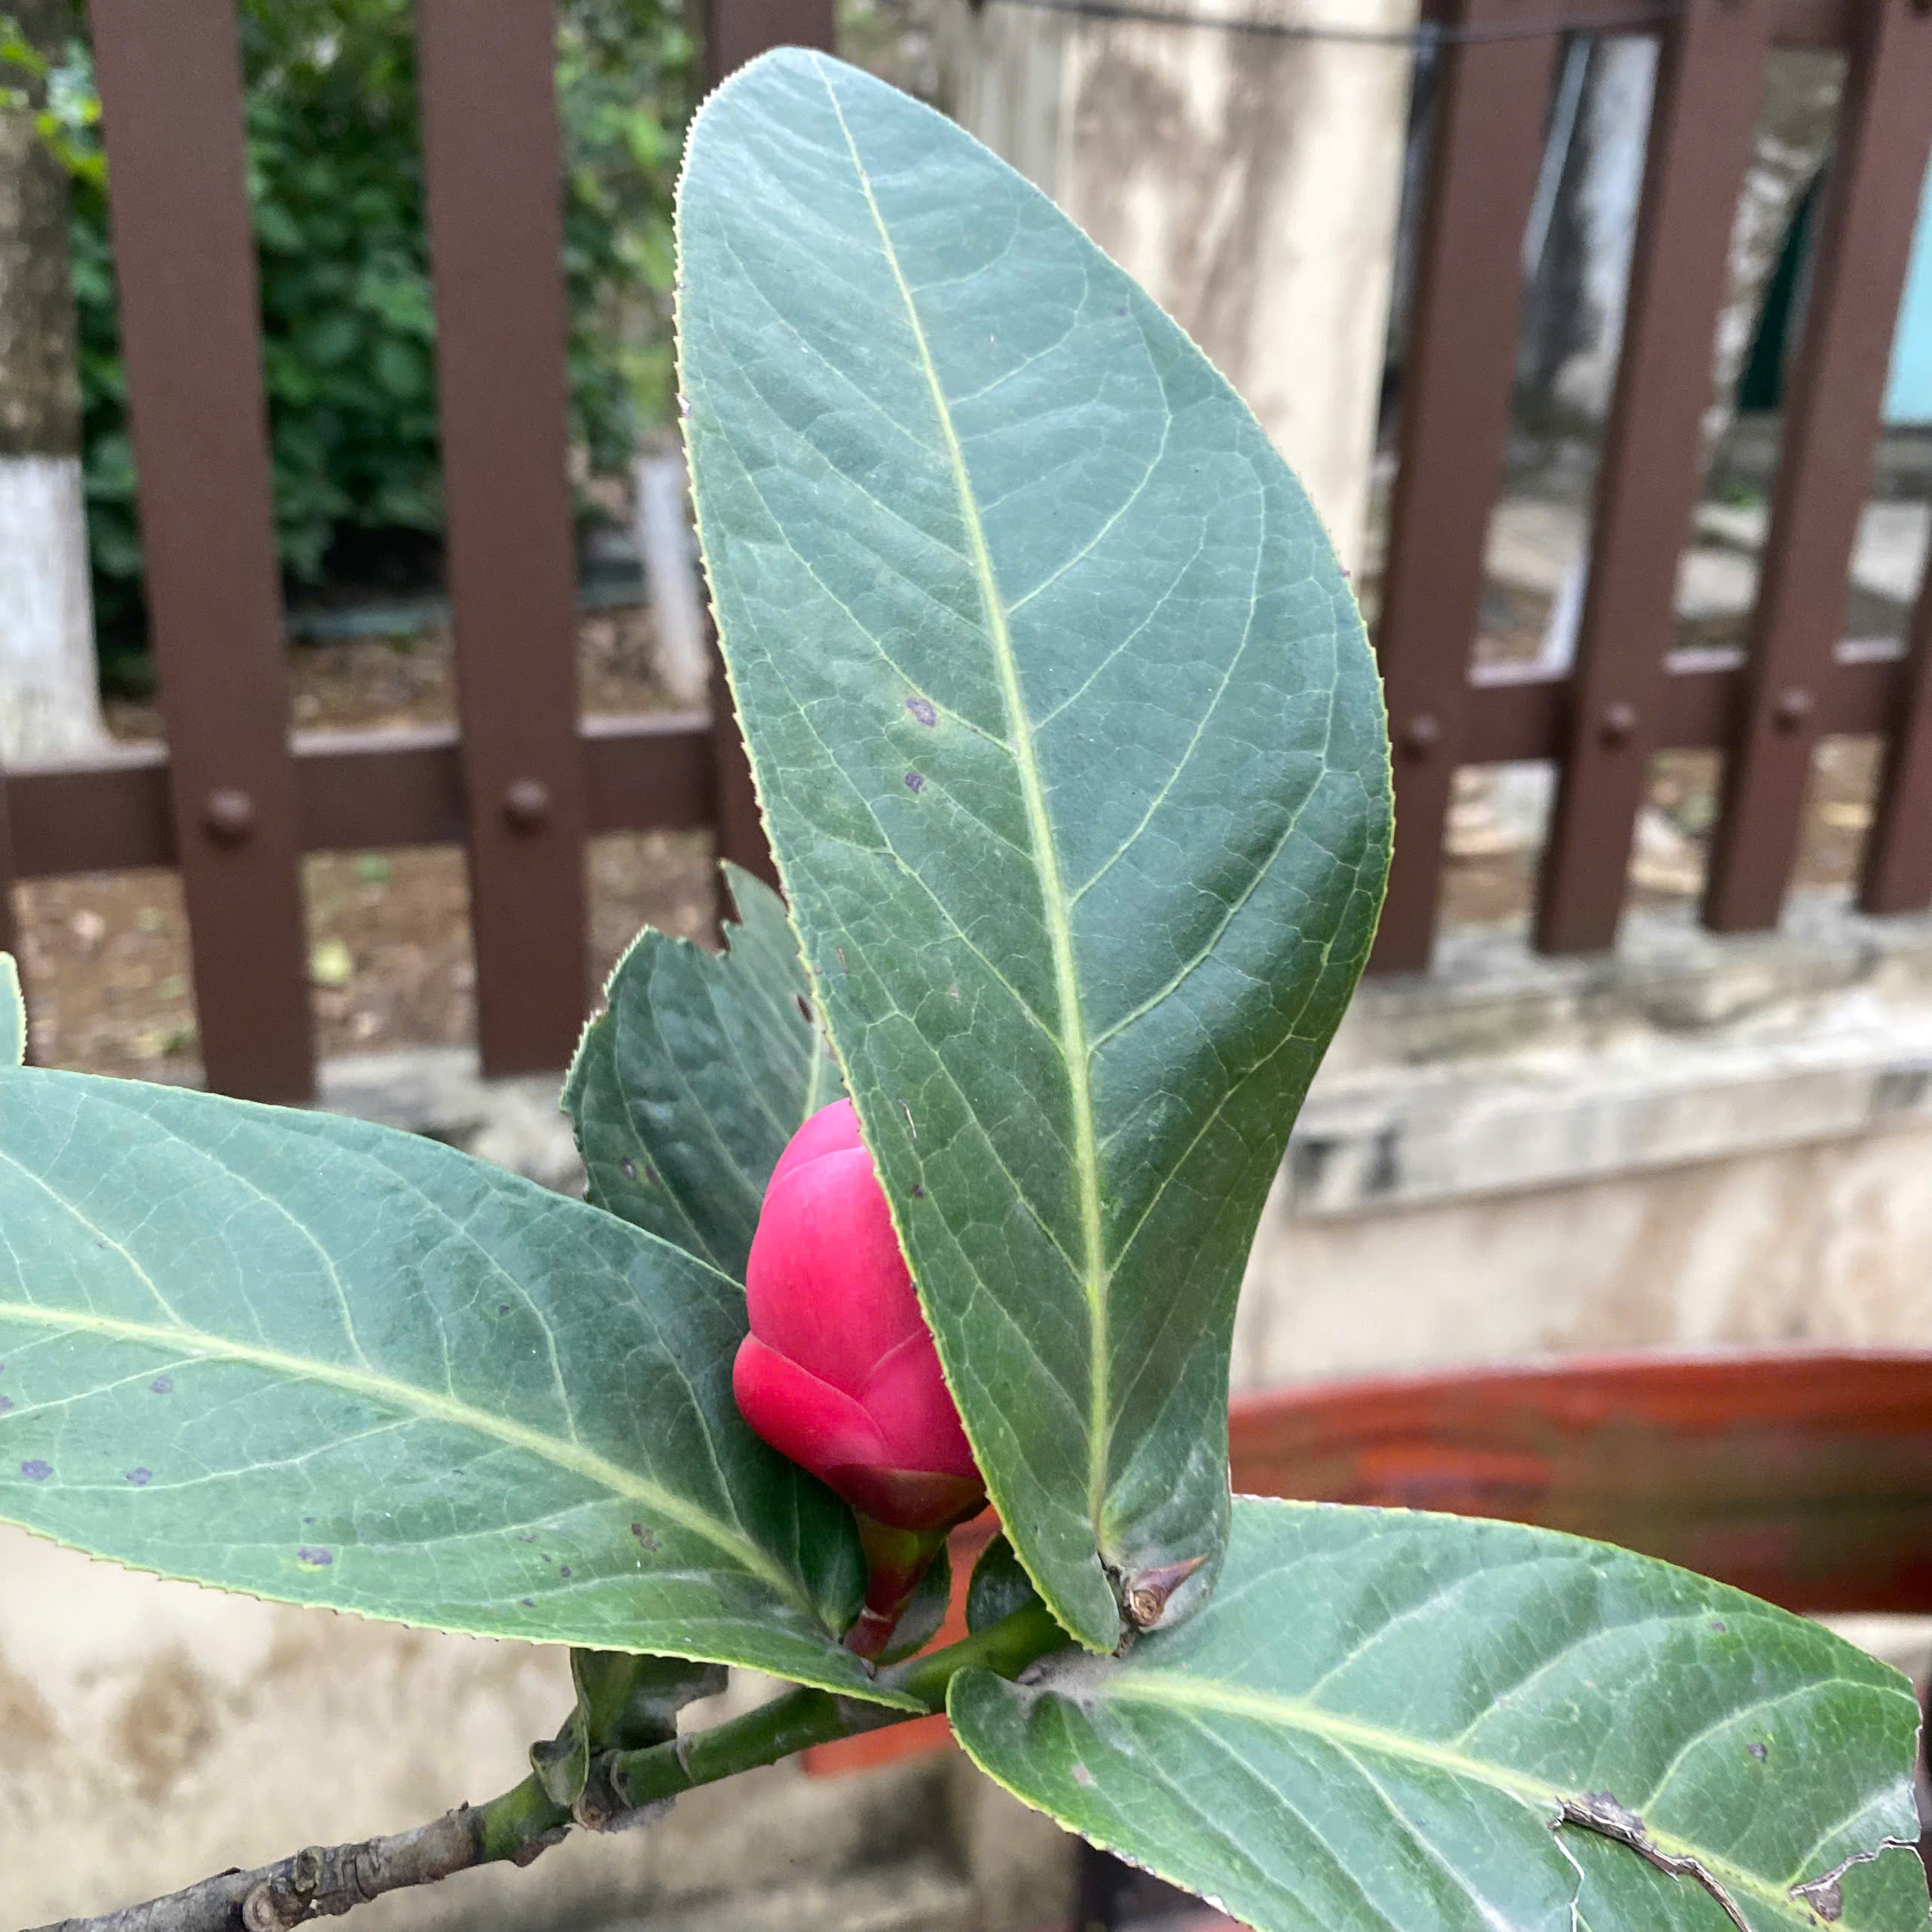hoa_hai_duong: (591, 46, 1435, 1725)
